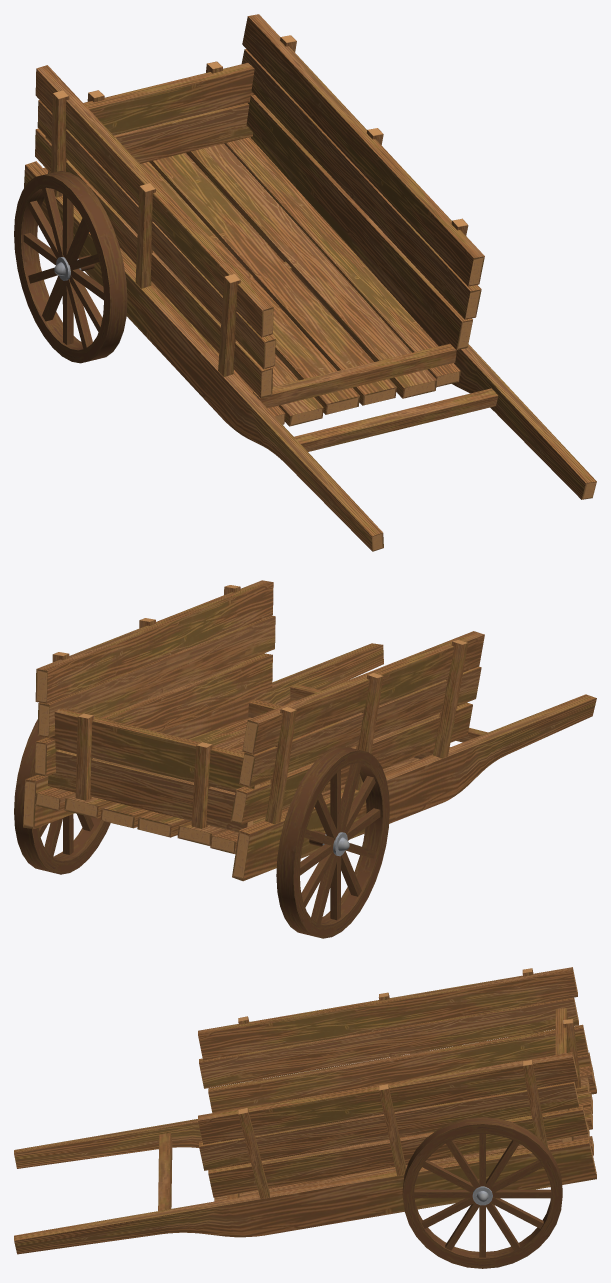
File: Prop_Wagon.glb
3 renders of one model, top to bottom at view 1: azimuth 30°, elevation 25°; view 2: azimuth 150°, elevation 25°; view 3: azimuth 270°, elevation 25°, orthographic. The views are drawn at different scales.
Visible parts, largest first — view 1: Prop_Wagon; view 2: Prop_Wagon; view 3: Prop_Wagon.
Part boxes in pixels (x1,y1,x2,y2): Prop_Wagon: (14,14,596,551); Prop_Wagon: (14,580,596,938); Prop_Wagon: (14,967,596,1268).
Size of the model in its own units: 1.95 by 1.53 by 4.02.
Materials: 1 (1 with a texture image).
